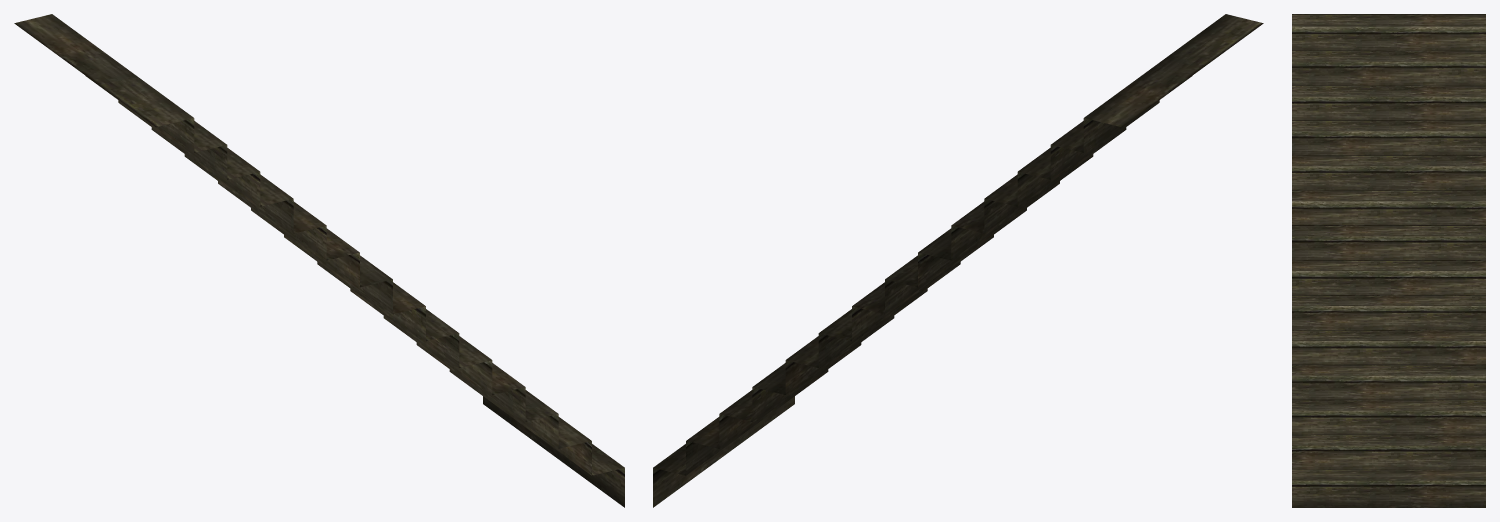
Rendered from OC_LOB_STAIRS_03.glb.
3 views of the same model, side by side, from view 1: azimuth 30°, elevation 25°; view 2: azimuth 150°, elevation 25°; view 3: azimuth 270°, elevation 25° (orthographic). The views are drawn at different scales.
Parts seen in each view (by area): view 1: Mesh; view 2: Mesh; view 3: Mesh.
Boxes of the visible parts, x1,y1,x2,y2 form: Mesh: (14, 14, 624, 507); Mesh: (653, 14, 1263, 507); Mesh: (1292, 14, 1485, 507).
Size of the model in its own units: 4.67 by 4.71 by 2.45.
1 material, 1 textured.
